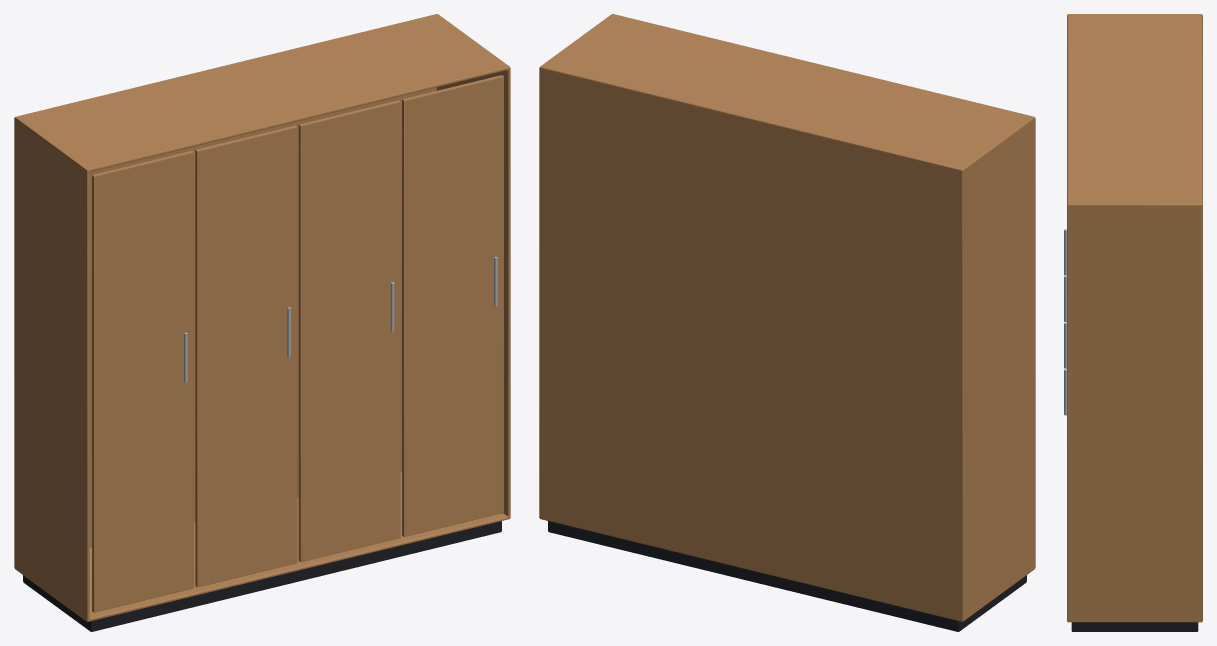
The model's file is wardrobe-200.glb.
3 renders of one model, left to right at view 1: azimuth 30°, elevation 25°; view 2: azimuth 150°, elevation 25°; view 3: azimuth 270°, elevation 25°, orthographic. The views are drawn at different scales.
Parts seen in each view (by area): view 1: wardrobe-200; view 2: wardrobe-200; view 3: wardrobe-200.
Boxes of the visible parts, <box> form: wardrobe-200: <box>14,14,510,631</box>; wardrobe-200: <box>539,14,1035,631</box>; wardrobe-200: <box>1064,14,1202,631</box>.
Size of the model in its own units: 2 by 2.1 by 0.613.
